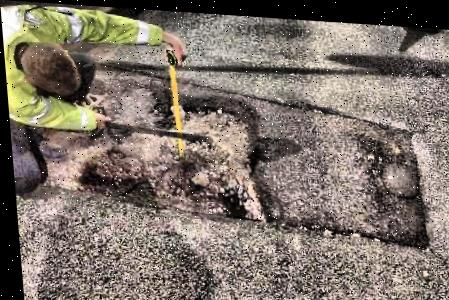pothole: (154, 88, 270, 222)
